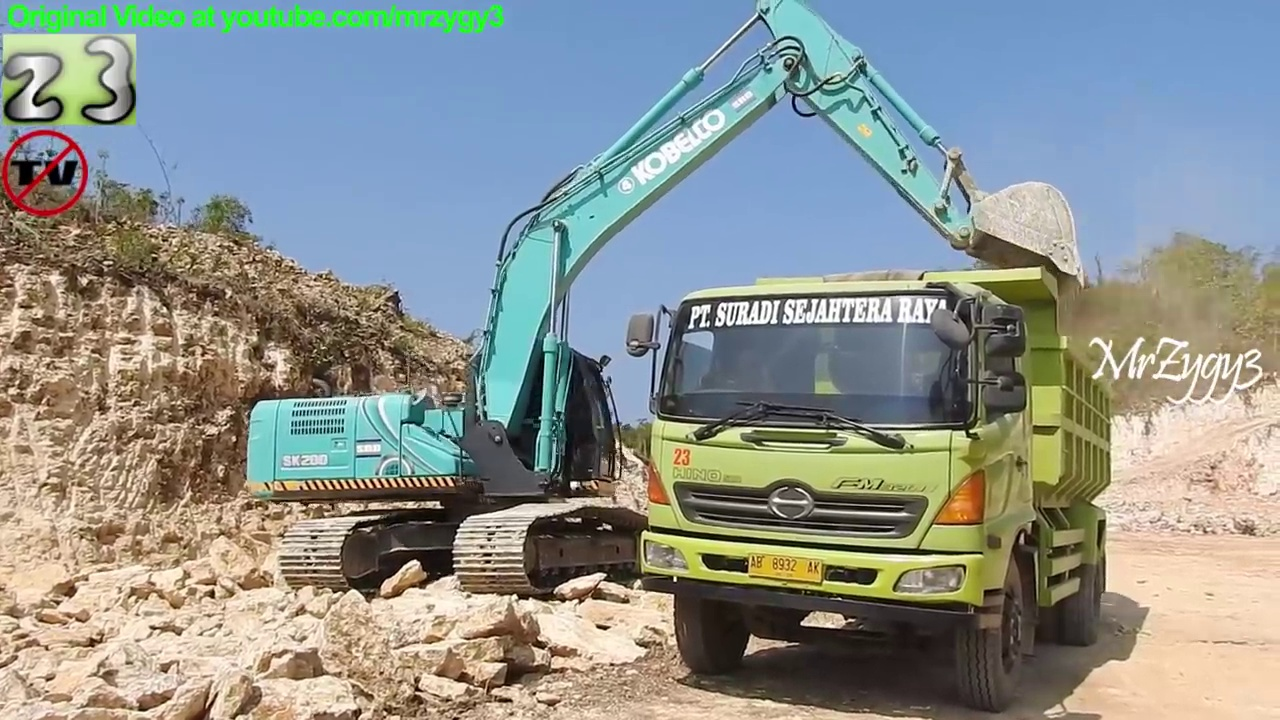excavator: (236, 1, 1092, 614)
truck: (622, 259, 1122, 716)
